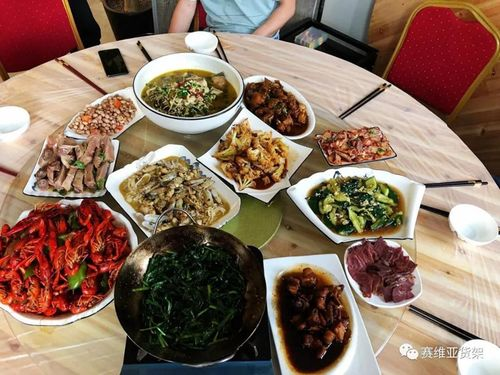food: (110, 217, 273, 361), (1, 192, 135, 322), (264, 248, 365, 368), (381, 4, 491, 113), (288, 159, 421, 239), (112, 143, 236, 226), (131, 46, 242, 134), (22, 115, 129, 197), (206, 117, 305, 194), (343, 232, 426, 310), (238, 67, 316, 137), (311, 116, 397, 166), (64, 87, 141, 139)
